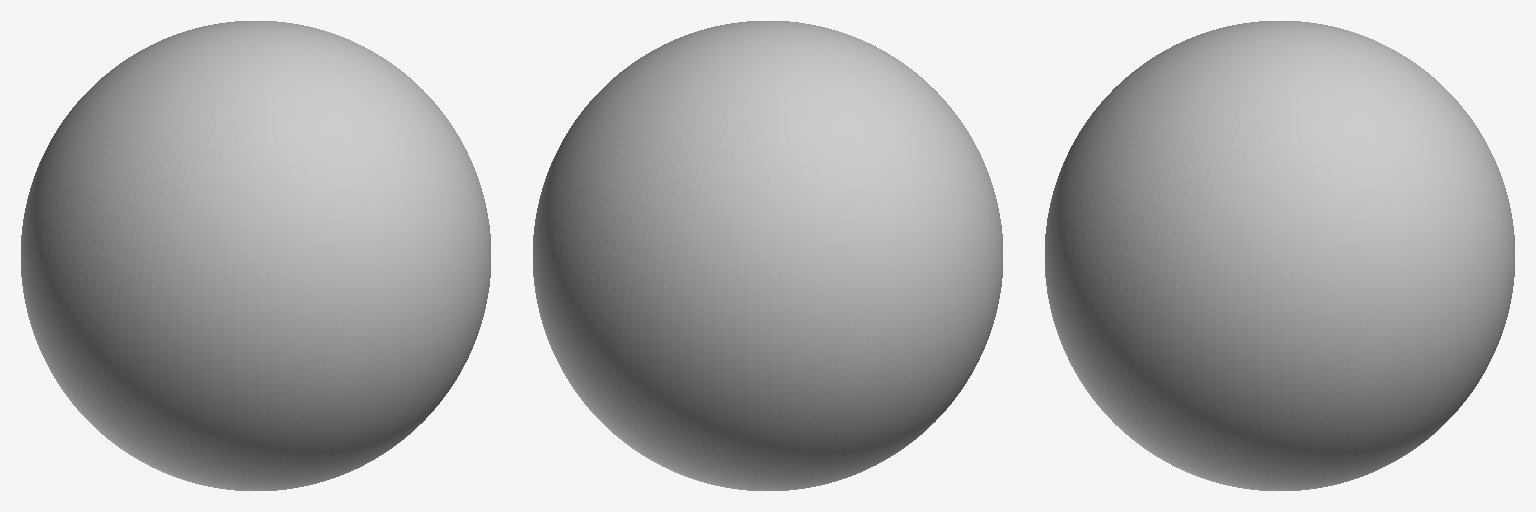
The model's file is Sun.obj.
3 renders of one model, left to right at view 1: azimuth 30°, elevation 25°; view 2: azimuth 150°, elevation 25°; view 3: azimuth 270°, elevation 25°, orthographic.
Visible parts, largest first — view 1: Sphere_Material.001; view 2: Sphere_Material.001; view 3: Sphere_Material.001.
Boxes of the visible parts, box(x1,y1,x2,y2) form: Sphere_Material.001: box(21, 21, 490, 490); Sphere_Material.001: box(533, 21, 1002, 490); Sphere_Material.001: box(1045, 21, 1514, 490).
Bounding box in the file's own units: 20 × 20 × 20.